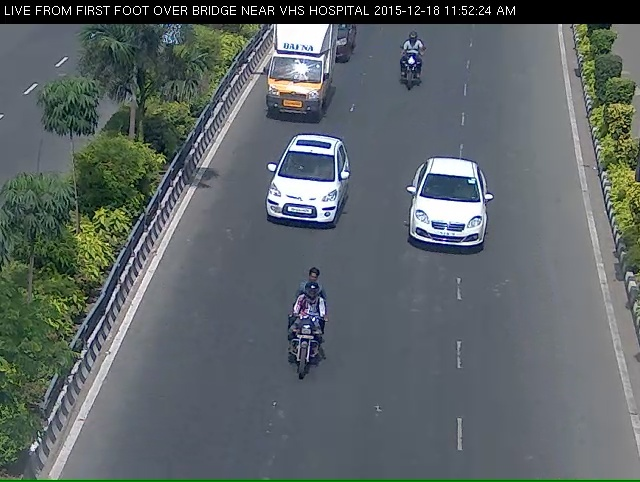Car: (255, 152, 344, 251), (406, 170, 489, 273), (261, 22, 327, 132), (296, 21, 360, 68)
Person: (274, 301, 338, 413), (396, 35, 429, 106)
